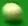white: (0, 0, 28, 26)
